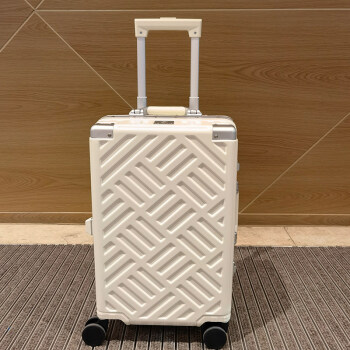box: (89, 114, 238, 326)
handle: (128, 105, 203, 117)
wheel: (82, 317, 109, 347), (202, 325, 228, 350)
